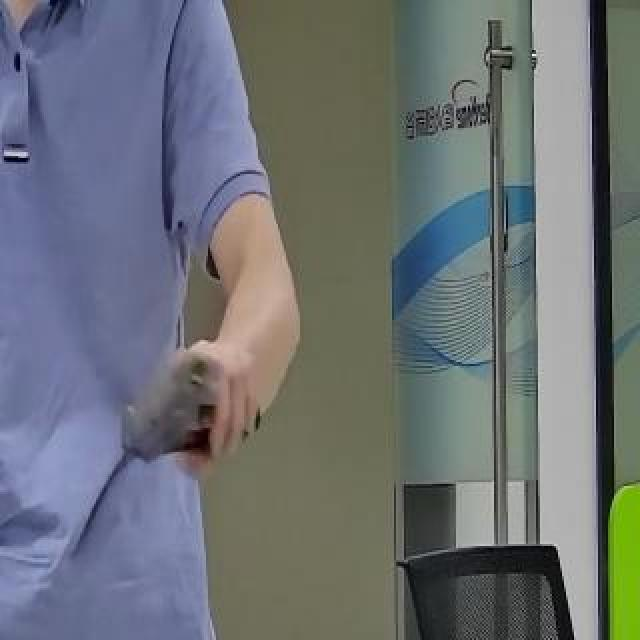Guns: (114, 341, 262, 479)
